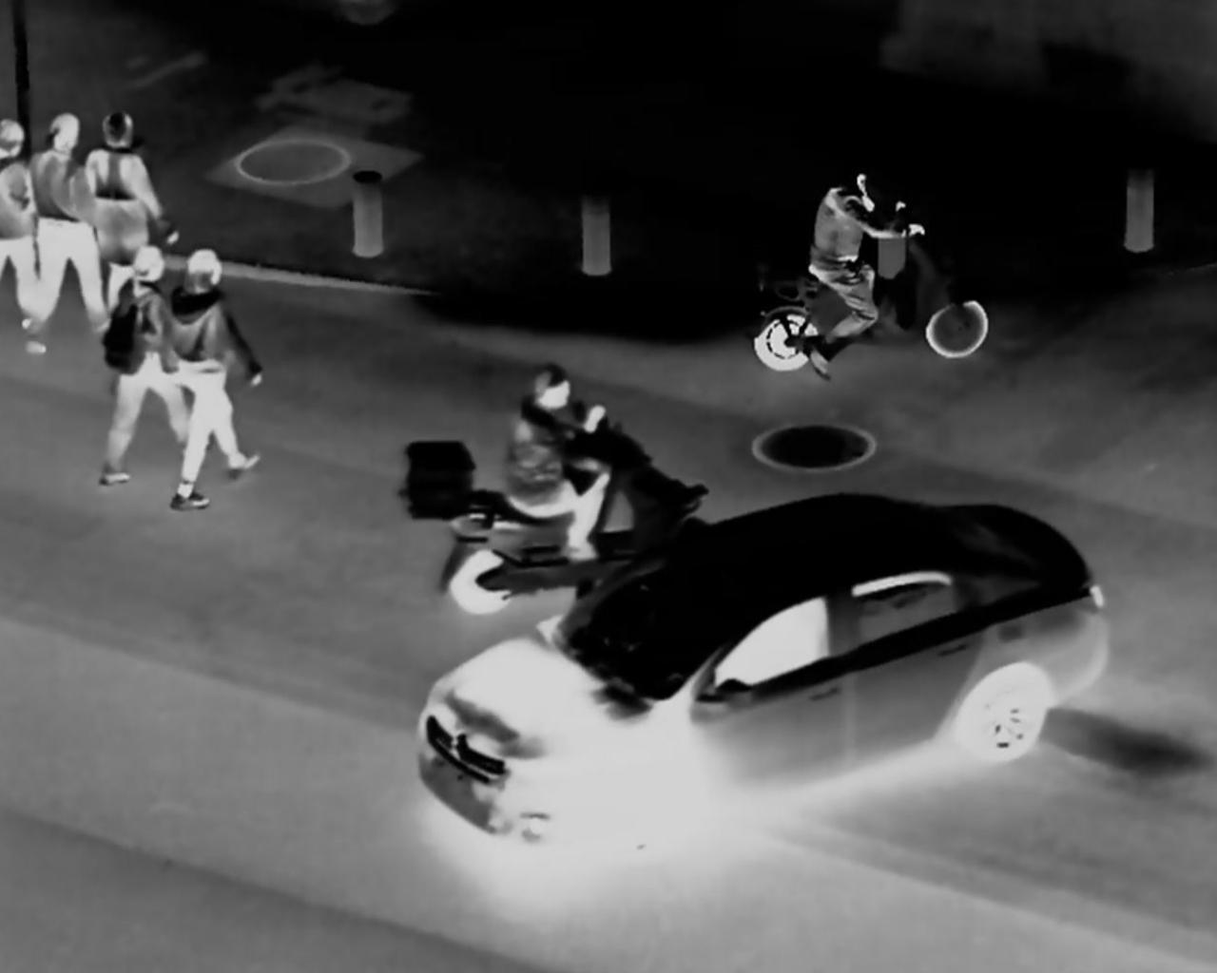person: (493, 349, 613, 568), (790, 165, 906, 381), (169, 248, 261, 510), (99, 241, 192, 497), (30, 106, 101, 347), (88, 110, 167, 305)
